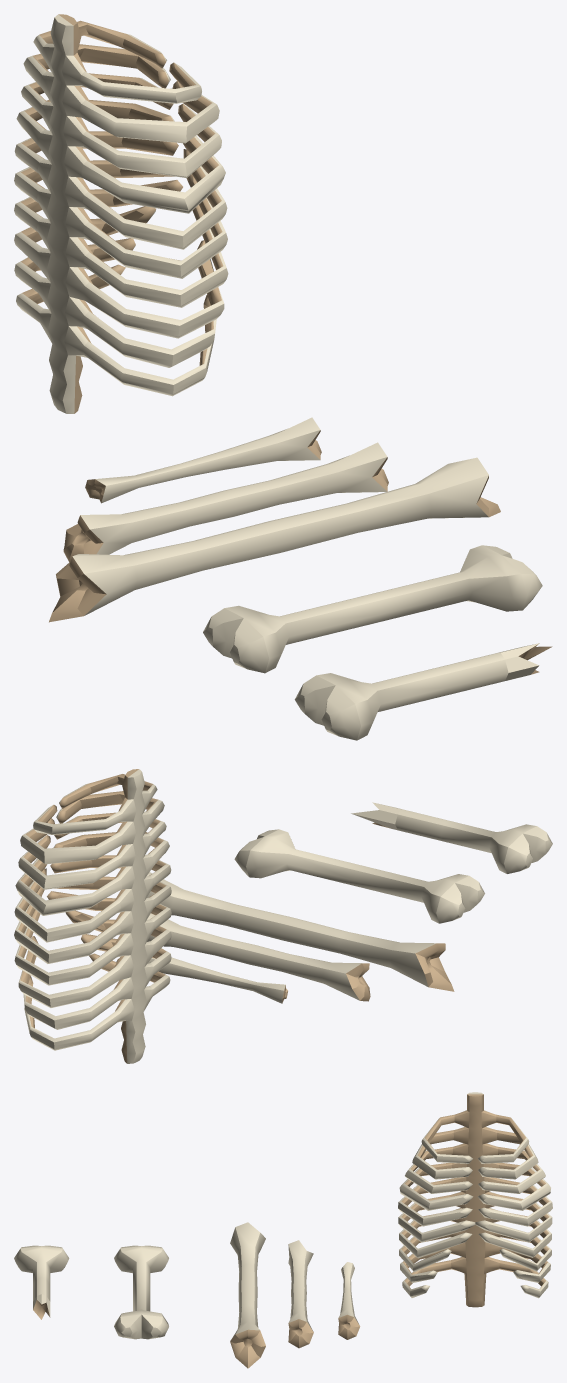
The model's file is BonePack.fbx.
3 renders of one model, top to bottom at view 1: azimuth 30°, elevation 25°; view 2: azimuth 150°, elevation 25°; view 3: azimuth 270°, elevation 25°, orthographic. The views are drawn at different scales.
Parts seen in each view (by area): view 1: Bone_RibCage, Bone_LStraight, Bone_HeartEndFull, Bone_MStraight, Bone_HeartEndCracked, Bone_SStraight; view 2: Bone_RibCage, Bone_LStraight, Bone_HeartEndFull, Bone_HeartEndCracked, Bone_MStraight, Bone_SStraight; view 3: Bone_RibCage, Bone_LStraight, Bone_HeartEndFull, Bone_HeartEndCracked, Bone_MStraight, Bone_SStraight.
Boxes of the visible parts, x1,y1,x2,y2 form: Bone_RibCage: [14, 14, 228, 413]; Bone_LStraight: [49, 457, 500, 622]; Bone_HeartEndFull: [203, 545, 542, 673]; Bone_MStraight: [63, 442, 388, 562]; Bone_HeartEndCracked: [294, 643, 552, 740]; Bone_SStraight: [85, 417, 321, 503]; Bone_RibCage: [14, 769, 171, 1063]; Bone_LStraight: [146, 872, 454, 991]; Bone_HeartEndFull: [234, 829, 484, 923]; Bone_HeartEndCracked: [351, 802, 552, 873]; Bone_MStraight: [147, 913, 370, 1001]; Bone_SStraight: [116, 957, 287, 1003]; Bone_RibCage: [398, 1092, 552, 1307]; Bone_LStraight: [230, 1222, 265, 1368]; Bone_HeartEndFull: [114, 1245, 168, 1339]; Bone_HeartEndCracked: [14, 1245, 69, 1319]; Bone_MStraight: [288, 1240, 313, 1348]; Bone_SStraight: [338, 1262, 360, 1339].
Bounding box in the file's own units: 237 × 198 × 450.
1 material, 1 textured.
